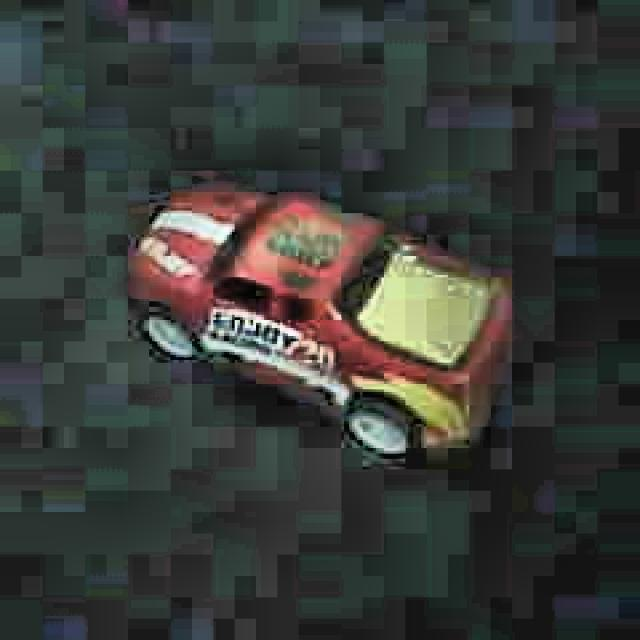car: (124, 174, 524, 468)
